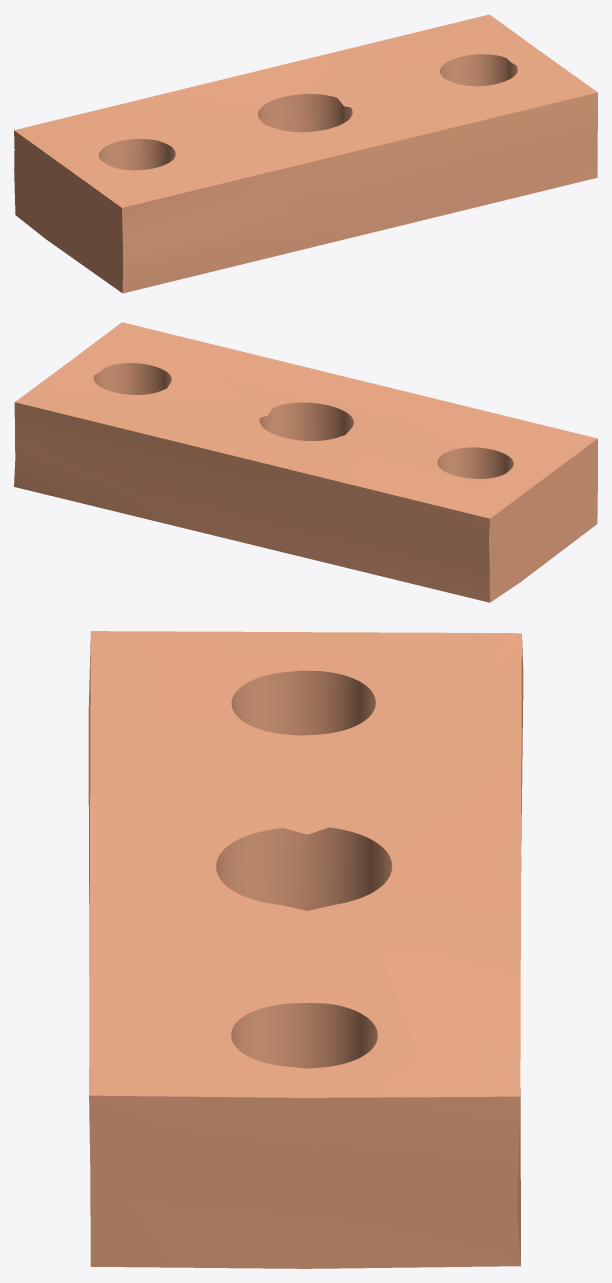
Rendered from sample_05_output.obj.
3 renders of one model, top to bottom at view 1: azimuth 30°, elevation 25°; view 2: azimuth 150°, elevation 25°; view 3: azimuth 270°, elevation 25°, orthographic. The views are drawn at different scales.
Parts seen in each view (by area): view 1: mesh3, mesh5, mesh7, mesh10, mesh8, mesh0; view 2: mesh3, mesh4, mesh7, mesh11, mesh9, mesh1; view 3: mesh3, mesh6, mesh11, mesh10, mesh9, mesh0, mesh8, mesh1.
Boxes of the visible parts, left/top/right/bottom form: mesh3: left=14, top=14, right=597, bottom=207; mesh5: left=122, top=92, right=597, bottom=293; mesh7: left=14, top=130, right=122, bottom=292; mesh10: left=258, top=94, right=344, bottom=132; mesh8: left=440, top=54, right=511, bottom=86; mesh0: left=98, top=139, right=171, bottom=170; mesh3: left=15, top=322, right=597, bottom=518; mesh4: left=14, top=402, right=489, bottom=602; mesh7: left=489, top=438, right=597, bottom=602; mesh11: left=266, top=402, right=353, bottom=440; mesh9: left=99, top=363, right=171, bottom=394; mesh1: left=443, top=447, right=513, bottom=478; mesh3: left=89, top=631, right=521, bottom=1097; mesh6: left=89, top=1095, right=520, bottom=1268; mesh11: left=216, top=828, right=307, bottom=910; mesh10: left=307, top=827, right=392, bottom=910; mesh9: left=231, top=1003, right=307, bottom=1068; mesh0: left=300, top=670, right=375, bottom=735; mesh8: left=307, top=1003, right=377, bottom=1068; mesh1: left=231, top=670, right=300, bottom=735.
Size of the model in its own units: 0.000731 by 0.00013 by 0.000289.
